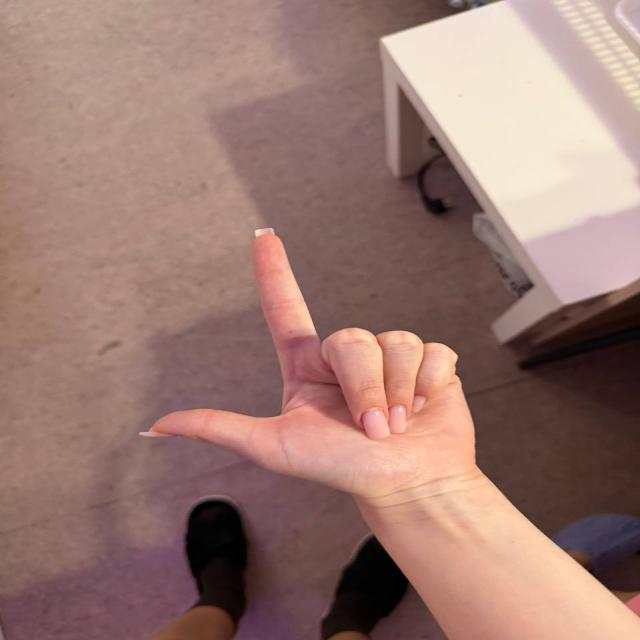g: (144, 218, 487, 455)
